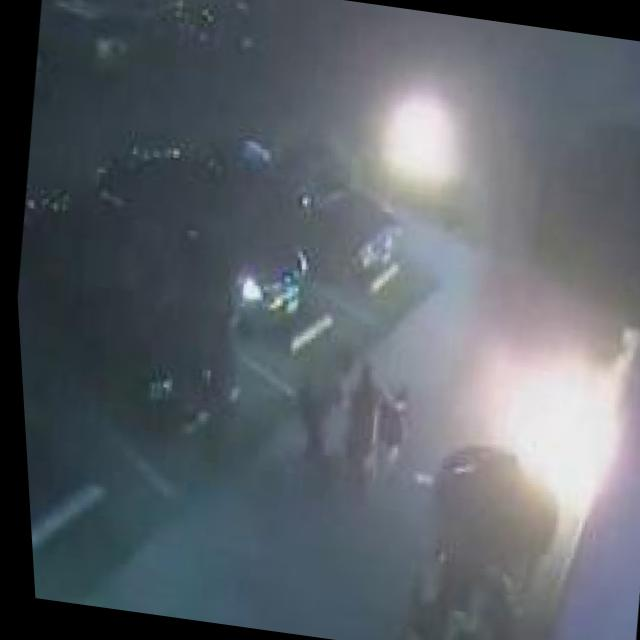fire: (456, 301, 640, 541), (351, 75, 483, 198)
